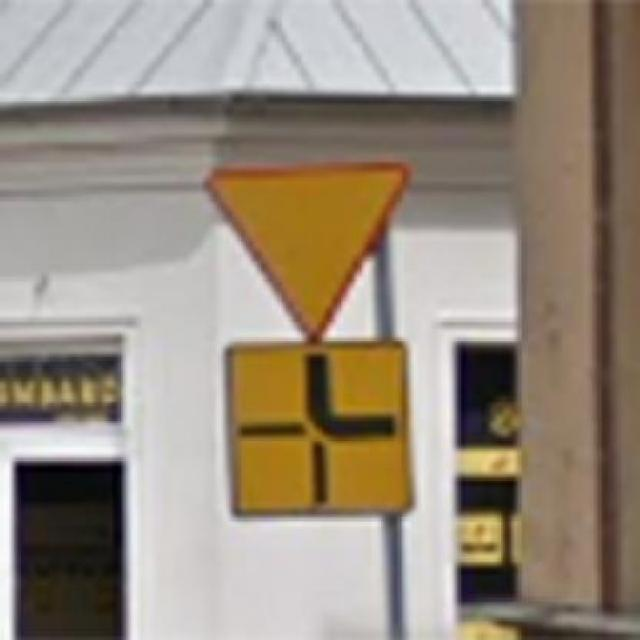Ustap pierwszenstwa: (198, 157, 412, 340)
